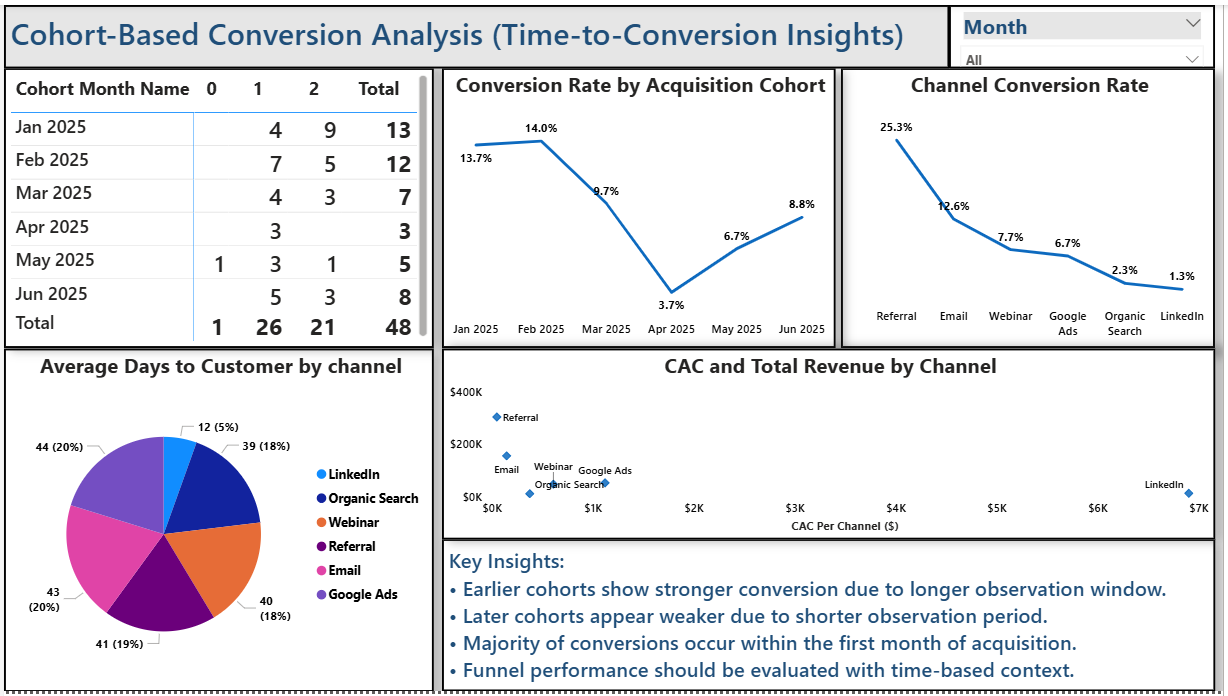

What the dashboard file says about the page in this screenshot:
{"tool":"powerbi","page":{"name":"Page 3","canvas":[1280,720],"ordinal":2},"visuals":[{"type":"lineChart","title":"Channel Conversion Rate","fields":{"Category":["leads.channel"],"Y":["lead_stage_events.Conversion Rate"]},"box":[879,66.8,392.9,293.7],"z":0},{"type":"pieChart","title":"Average Days to Customer by channel","fields":{"Category":["leads.channel"],"Y":["lead_stage_events.Avg Days to Customer"]},"box":[0,360.5,451.6,360.5],"z":1000},{"type":"textbox","box":[459.7,561,812.2,160],"z":2000},{"type":"pivotTable","fields":{"Rows":["leads.Cohort Month Name"],"Columns":["lead_stage_events.Months Since Cohort"],"Values":["leads.Customer Count"]},"box":[0,66.8,451.6,293.7],"z":3000},{"type":"lineChart","title":"Conversion Rate by Acquisition Cohort","fields":{"Category":["leads.Cohort Month Name"],"Y":["lead_stage_events.Cohort Conversion Rate"]},"box":[459.7,66.8,413.2,293.7],"z":4000},{"type":"textbox","box":[0,0,992.4,66.8],"z":5000},{"type":"scatterChart","fields":{"Category":["leads.channel"],"X":["lead_stage_events.CAC"],"Y":["lead_stage_events.Total Revenue"]},"box":[459.7,360.5,812.2,200.5],"z":6000},{"type":"slicer","fields":{"Values":["leads.Cohort Month Name"]},"box":[992.4,0,279.5,66.8],"z":7000}]}

Visuals, with their boxes in screenshot pixels (x1, y1, x2, y2), scaled from the page's 1280x720 canvas onto the 1228x696 screenshot:
"Channel Conversion Rate" lineChart: crop(843, 65, 1220, 348)
"Average Days to Customer by channel" pieChart: crop(0, 348, 433, 695)
textbox: crop(441, 542, 1220, 695)
pivotTable - leads.Cohort Month Name x lead_stage_events.Months Since Cohort: crop(0, 65, 433, 348)
"Conversion Rate by Acquisition Cohort" lineChart: crop(441, 65, 837, 348)
textbox: crop(0, 0, 952, 65)
scatterChart - leads.channel x lead_stage_events.CAC: crop(441, 348, 1220, 542)
slicer - leads.Cohort Month Name: crop(952, 0, 1220, 65)
